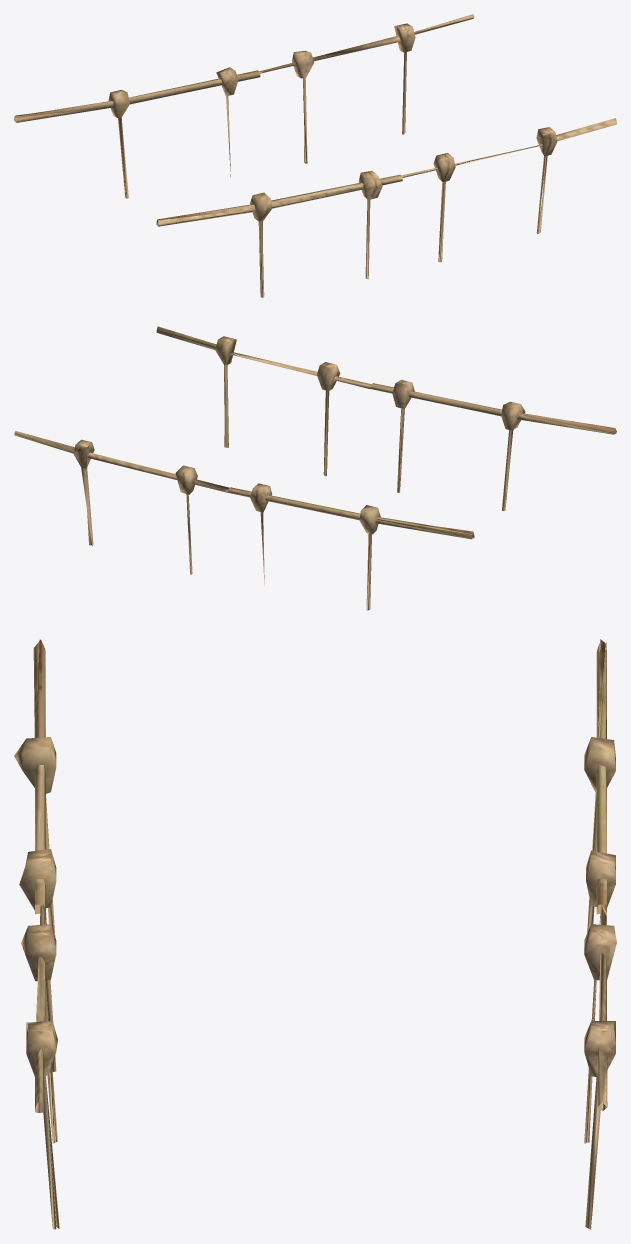
File: BridgeRail.fbx
3 views of the same model, one above another, from view 1: azimuth 30°, elevation 25°; view 2: azimuth 150°, elevation 25°; view 3: azimuth 270°, elevation 25° (orthographic). The views are drawn at different scales.
Parts seen in each view (by area): view 1: BridgeRail; view 2: BridgeRail; view 3: BridgeRail.
Boxes of the visible parts, x1=… form: BridgeRail: x1=14, y1=14, x2=616, y2=297; BridgeRail: x1=14, y1=326, x2=616, y2=610; BridgeRail: x1=14, y1=639, x2=616, y2=1229.
Bounding box in the file's own units: 2.2 × 0.5282 × 1.27.
1 material, 1 textured.
